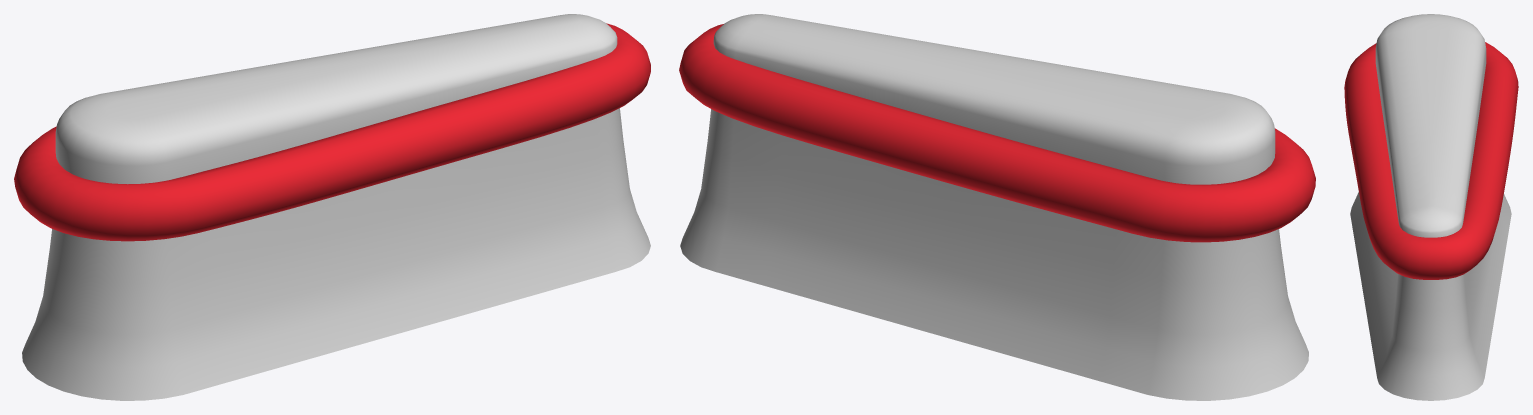
File: Flipper, Bally (2in).fbx
The picture shows the model from 3 angles, left to right: view 1: azimuth 30°, elevation 25°; view 2: azimuth 150°, elevation 25°; view 3: azimuth 270°, elevation 25°; orthographic projection. The views are drawn at different scales.
Parts seen in each view (by area): view 1: Flipper, Bally (2"); view 2: Flipper, Bally (2"); view 3: Flipper, Bally (2").
Part boxes in pixels (left/top/right/bottom): Flipper, Bally (2"): left=14, top=14, right=650, bottom=400; Flipper, Bally (2"): left=679, top=14, right=1315, bottom=400; Flipper, Bally (2"): left=1344, top=14, right=1518, bottom=400.
Size of the model in its own units: 6.26 by 2.4 by 2.06.
